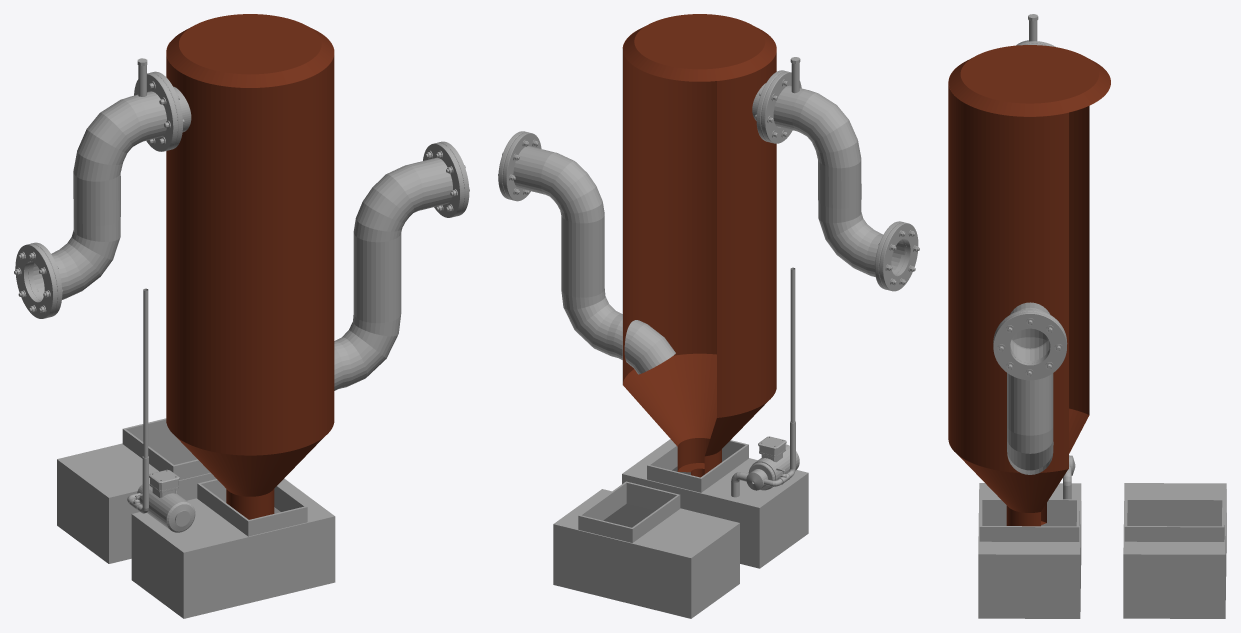
The model's file is ReactEnd.fbx.
The picture shows the model from 3 angles, left to right: view 1: azimuth 30°, elevation 25°; view 2: azimuth 150°, elevation 25°; view 3: azimuth 270°, elevation 25°; orthographic projection. The views are drawn at different scales.
Parts seen in each view (by area): view 1: Фальга.028; view 2: Фальга.028; view 3: Фальга.028.
Boxes of the visible parts, box(x1,y1,x2,y2) form: Фальга.028: box(14, 14, 469, 618); Фальга.028: box(498, 14, 919, 618); Фальга.028: box(948, 14, 1226, 618).
Bounding box in the file's own units: 12604 × 15266 × 7332.
